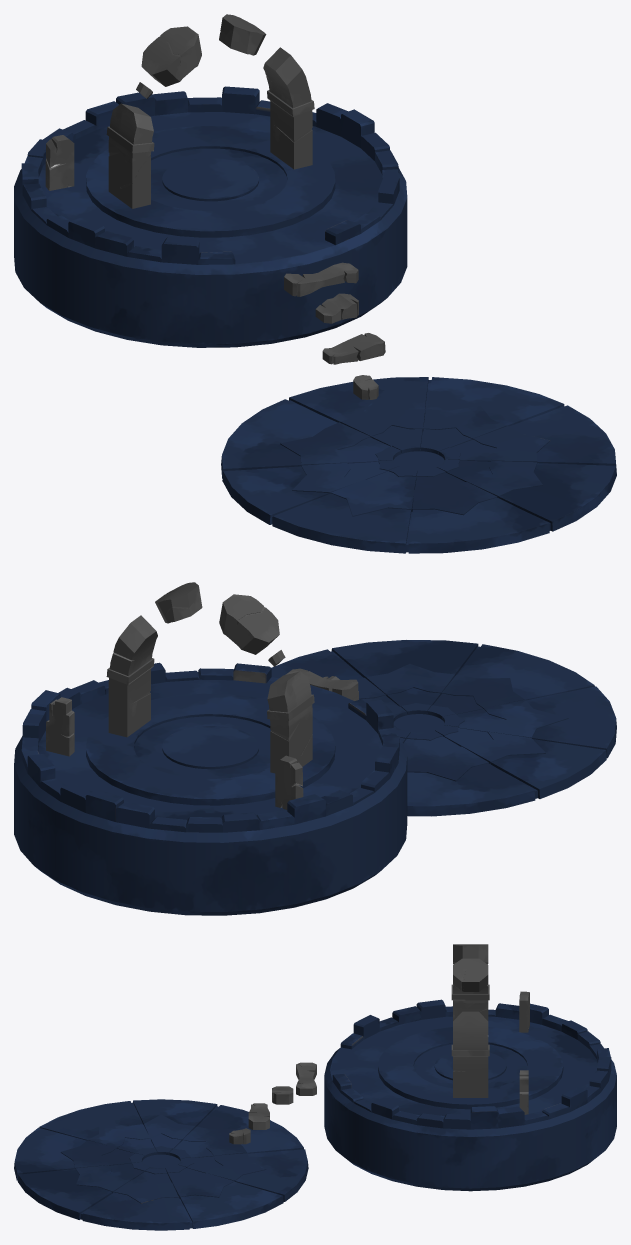
File: area.fbx
3 renders of one model, top to bottom at view 1: azimuth 30°, elevation 25°; view 2: azimuth 150°, elevation 25°; view 3: azimuth 270°, elevation 25°, orthographic. The views are drawn at different scales.
Visible parts, largest first — view 1: Cylinder.001, Cylinder, Cylinder.002, Cube, Cylinder.004; view 2: Cylinder.001, Cylinder, Cylinder.002, Cylinder.004, Cube; view 3: Cylinder.001, Cylinder, Cylinder.002, Cube, Cylinder.004.
Part boxes in pixels (x1,y1,x2,y2): Cylinder.001: [14, 86, 407, 347]; Cylinder: [221, 377, 616, 553]; Cylinder.002: [106, 14, 314, 208]; Cube: [284, 262, 385, 399]; Cylinder.004: [45, 135, 74, 190]; Cylinder.001: [14, 662, 407, 915]; Cylinder: [271, 640, 616, 816]; Cylinder.002: [106, 582, 314, 773]; Cylinder.004: [46, 697, 303, 809]; Cube: [285, 668, 358, 700]; Cylinder.001: [324, 999, 616, 1191]; Cylinder: [14, 1099, 308, 1230]; Cylinder.002: [451, 944, 489, 1097]; Cube: [229, 1062, 316, 1144]; Cylinder.004: [519, 991, 529, 1114].
Size of the model in its own units: 11915 by 9652 by 24389.
1 material, 1 textured.
